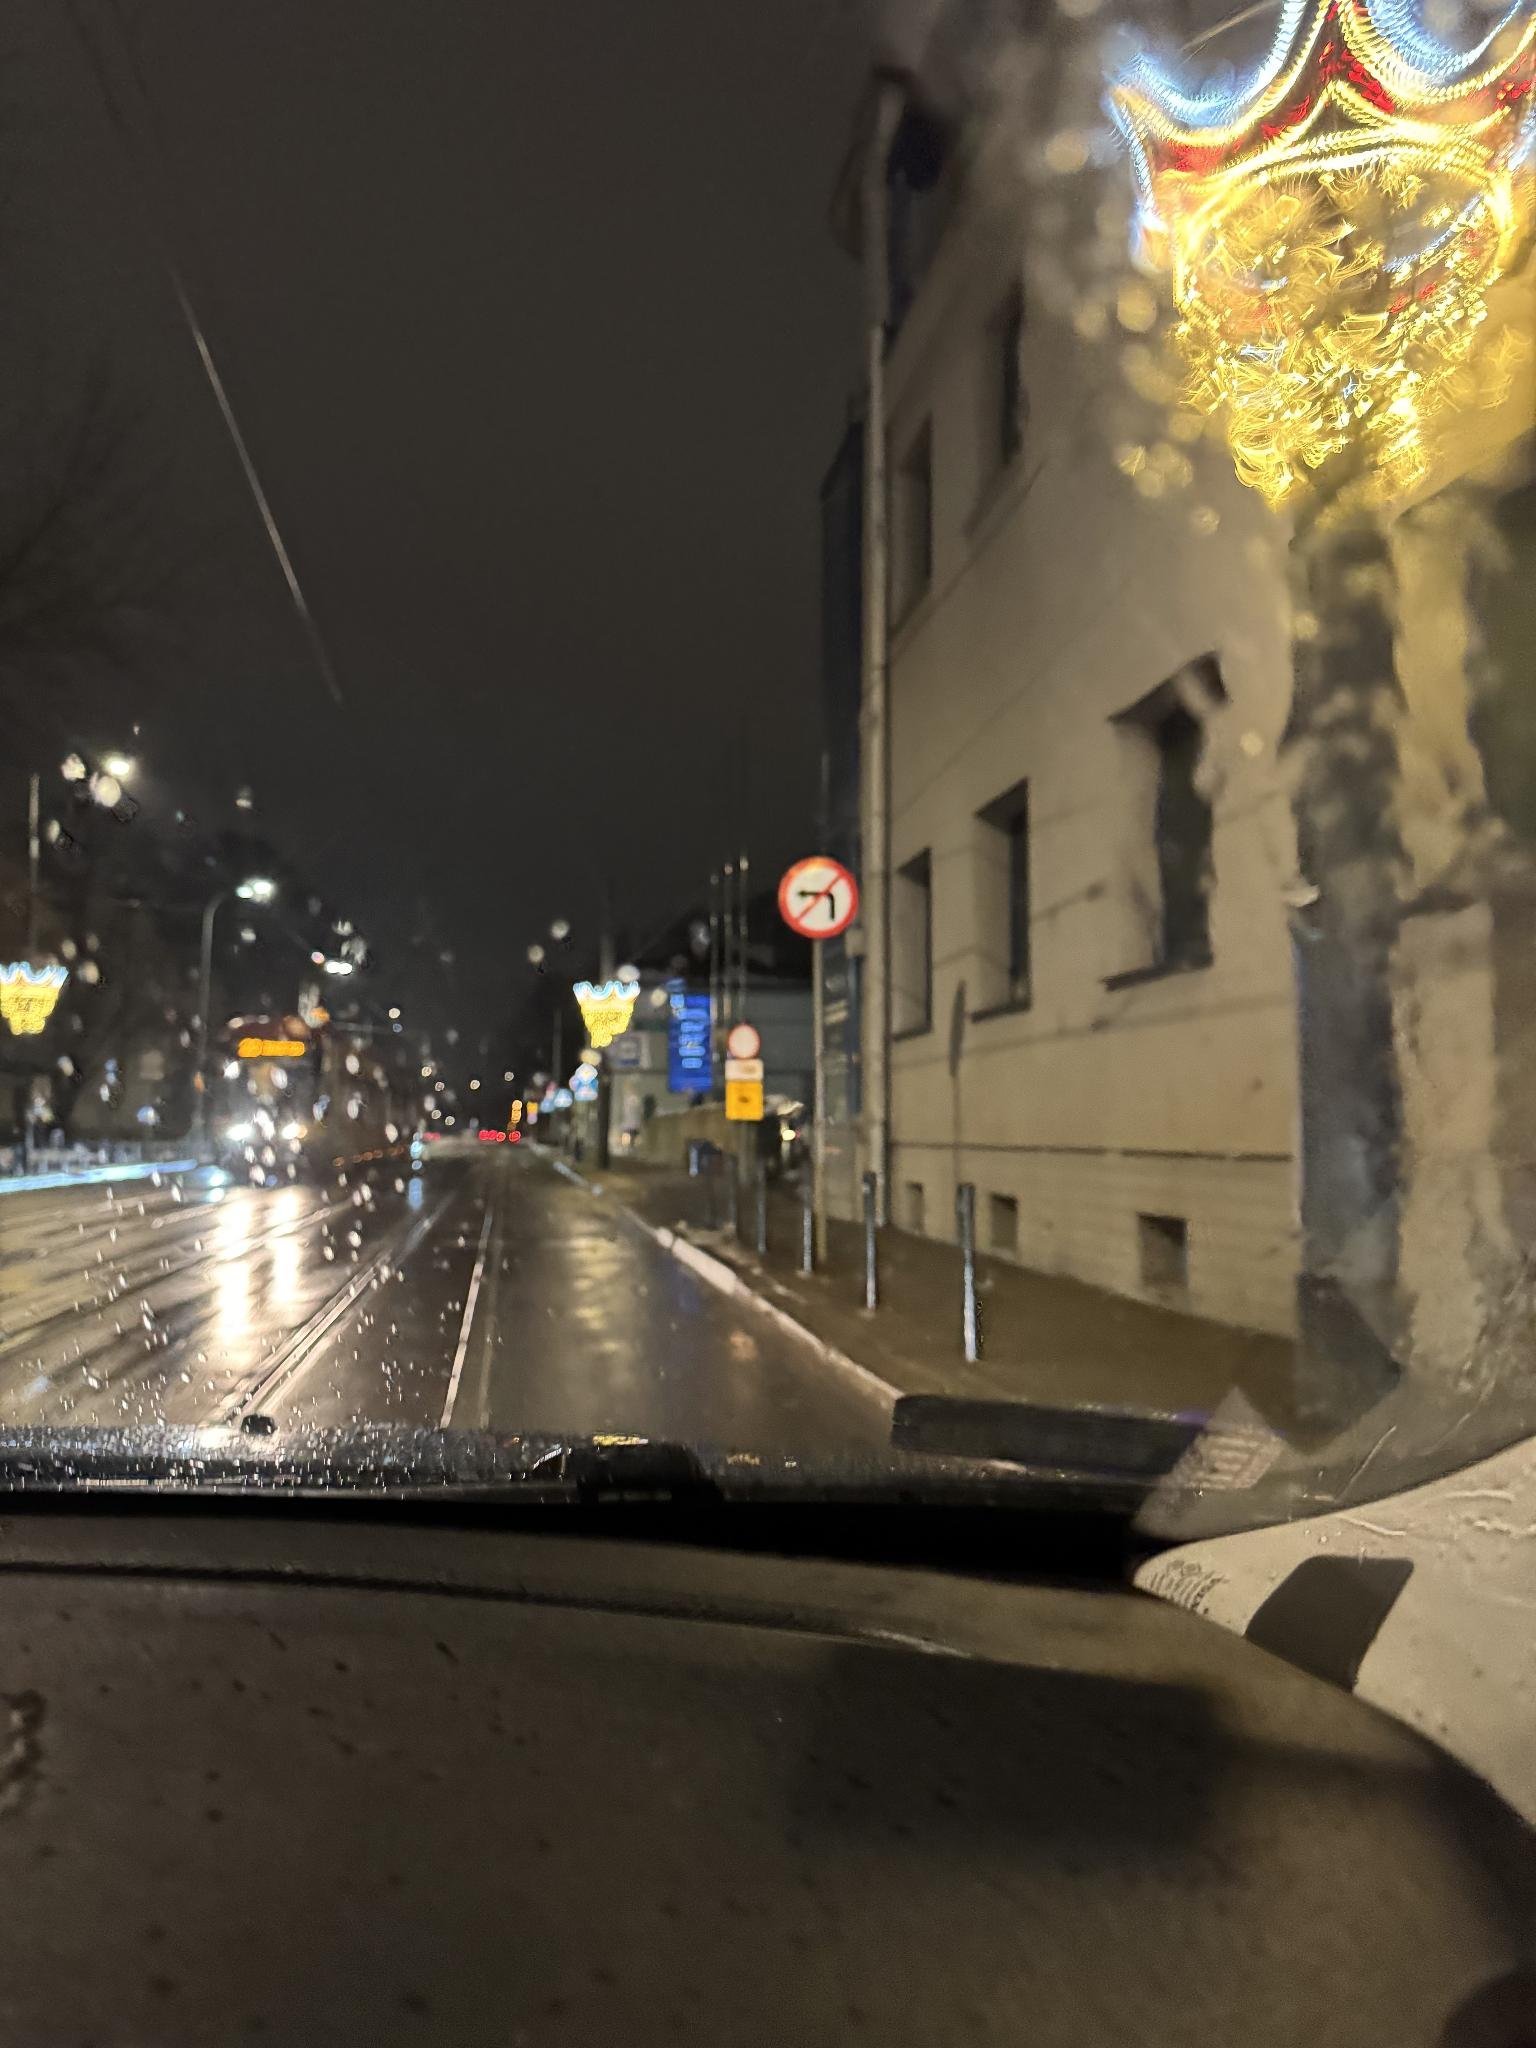other: (726, 1082, 762, 1121), (726, 1059, 763, 1079)
prohibitory: (778, 855, 860, 942), (724, 1024, 763, 1061)
